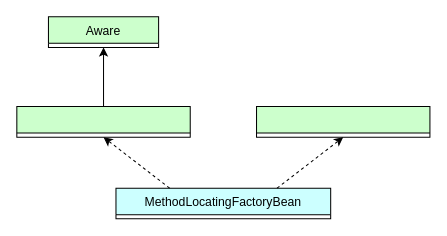
This 447x236 diagram has some shape labels left out. Each missing label, with the centre of its shape:
"BeanFactoryAware" goes at pixel 103 121.
"FactoryBean" goes at pixel 343 121.
